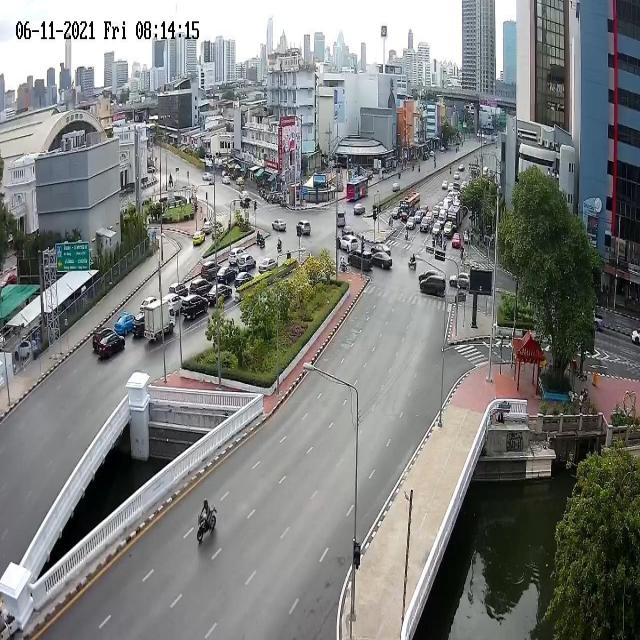Car: (98, 332, 125, 361), (180, 293, 209, 320), (206, 282, 232, 305), (419, 275, 446, 296), (348, 249, 374, 270), (114, 313, 136, 337), (190, 277, 214, 297), (216, 266, 238, 286), (338, 233, 358, 254), (370, 252, 392, 271), (236, 252, 256, 272), (200, 262, 219, 282), (234, 270, 255, 288), (449, 272, 469, 290), (168, 281, 188, 297), (228, 247, 244, 267), (16, 339, 31, 360), (258, 258, 277, 274), (297, 220, 311, 236), (192, 229, 205, 246), (432, 220, 444, 238), (272, 218, 286, 232), (443, 221, 454, 238), (420, 216, 431, 232), (4, 272, 17, 285), (354, 202, 366, 215), (413, 210, 424, 224), (452, 233, 461, 249), (202, 220, 212, 234), (438, 206, 448, 220), (406, 216, 415, 230), (202, 172, 213, 183), (400, 210, 409, 222), (222, 174, 230, 184), (236, 176, 244, 186), (461, 180, 468, 191), (442, 180, 448, 190), (454, 172, 460, 182), (448, 183, 454, 193), (458, 164, 465, 171)
Cycle: (196, 498, 218, 544), (408, 254, 417, 271), (277, 235, 282, 252)
Truck: (144, 299, 176, 342)
Van: (338, 210, 347, 228)
